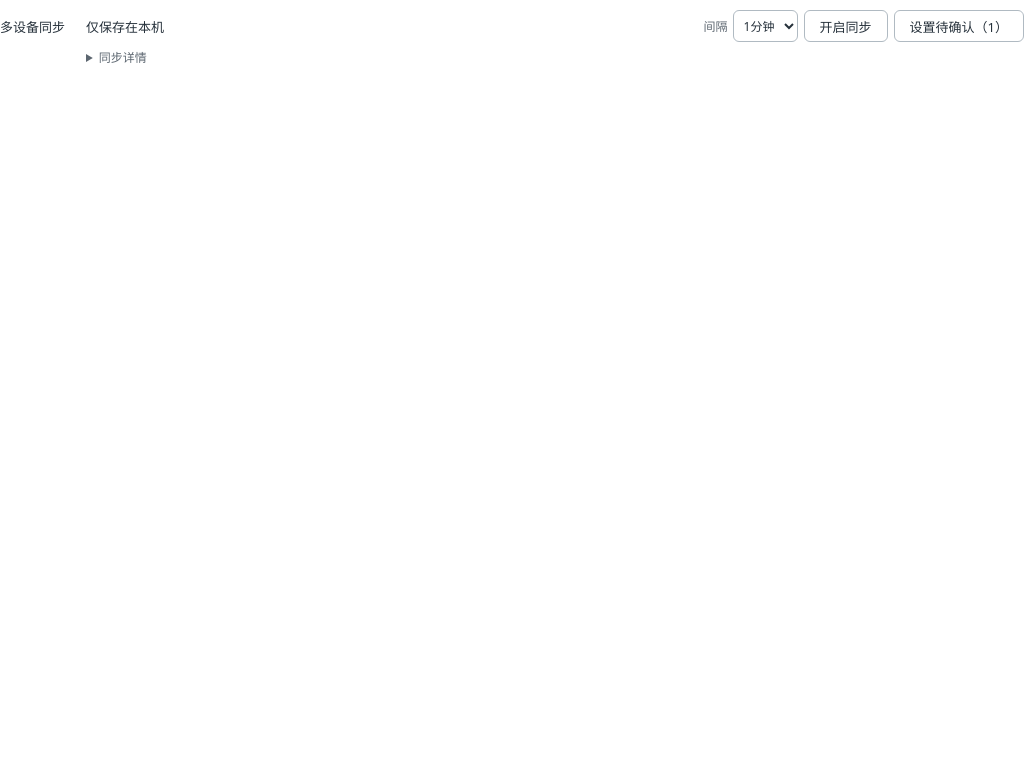
未确认的发送设置只在本机显式应用，失败保留预览
The image size is (1024, 768).
Click the button "设置待确认（1）".
click(959, 26)  # box [894,10,1023,42]
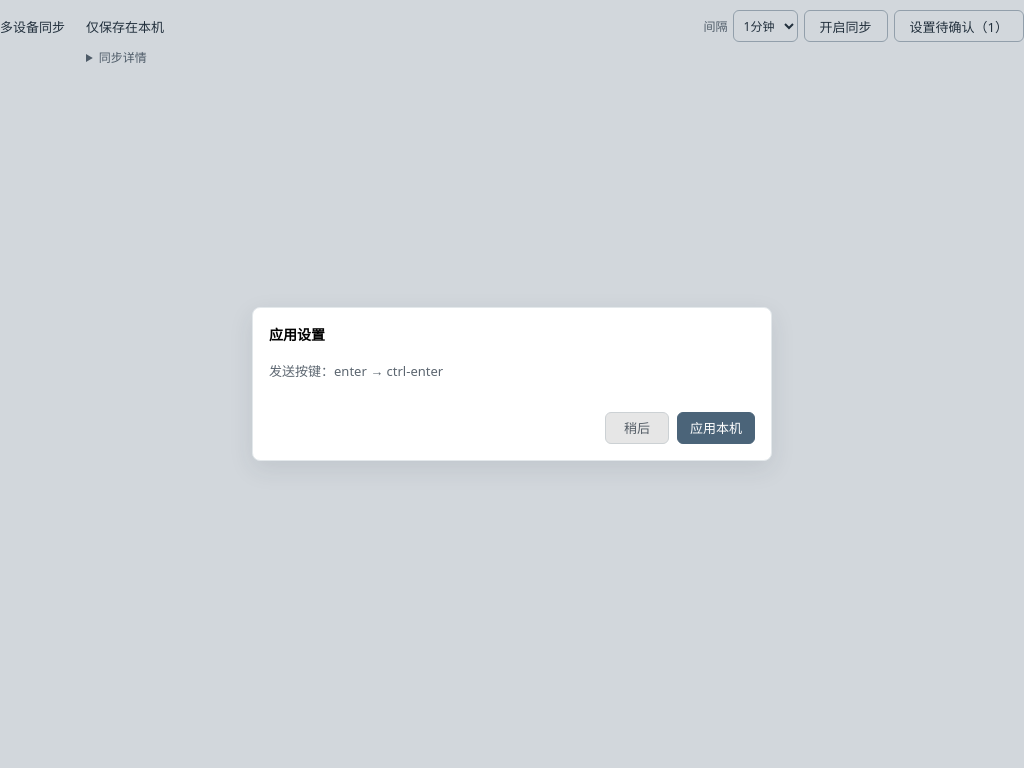
Now the text "发送按键：enter → ctrl-enter" is shown, box [269,362,443,380]
Now the button "应用本机" is enabled
Click the button "应用本机".
click(716, 428)  # box [677,412,755,444]
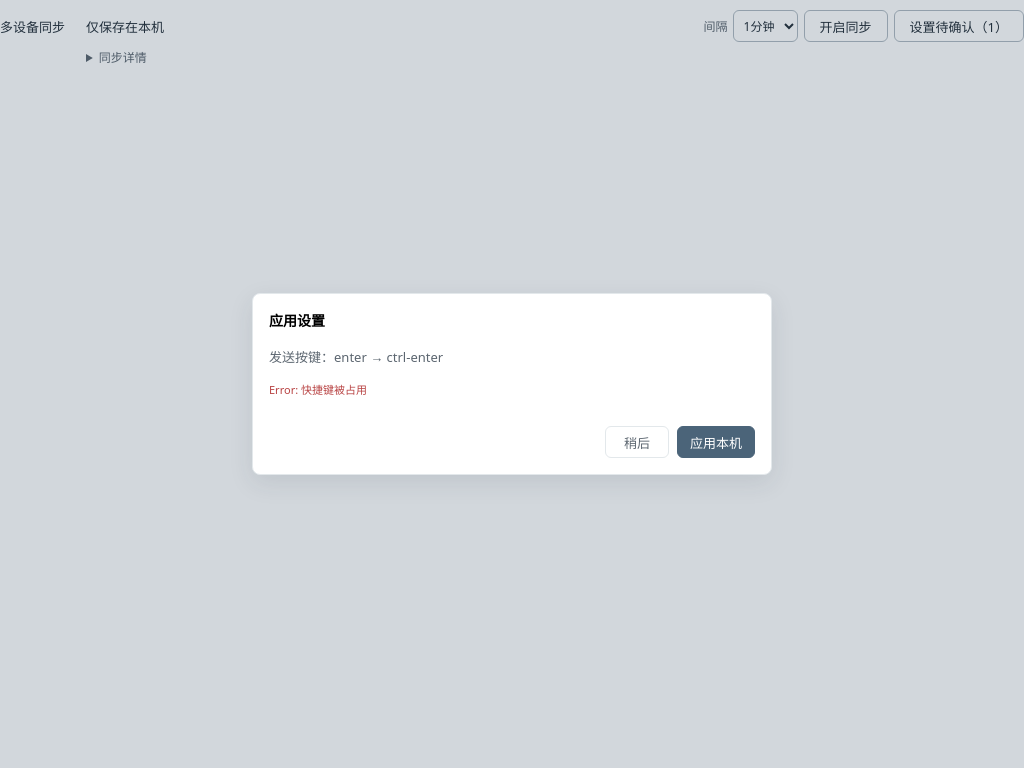
Now the text "发送按键：enter → ctrl-enter" is shown, box [269,348,443,366]
Now the message "Error: 快捷键被占用" is shown, box [269,382,367,397]
